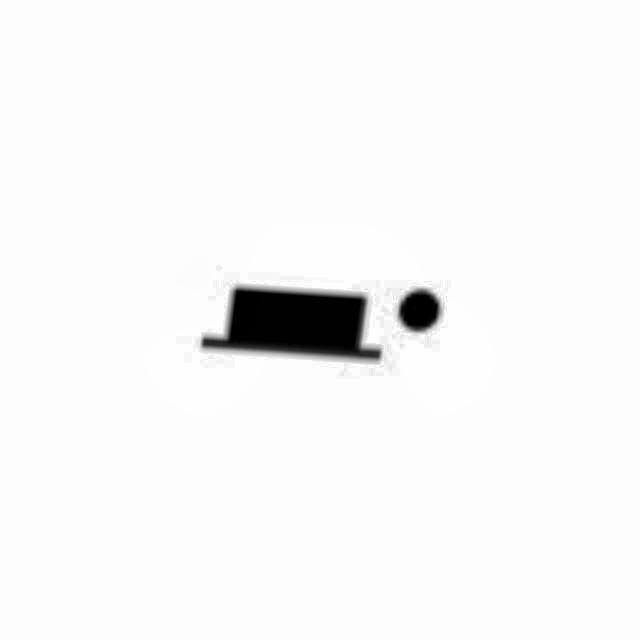Half-rest: (191, 276, 453, 370)
